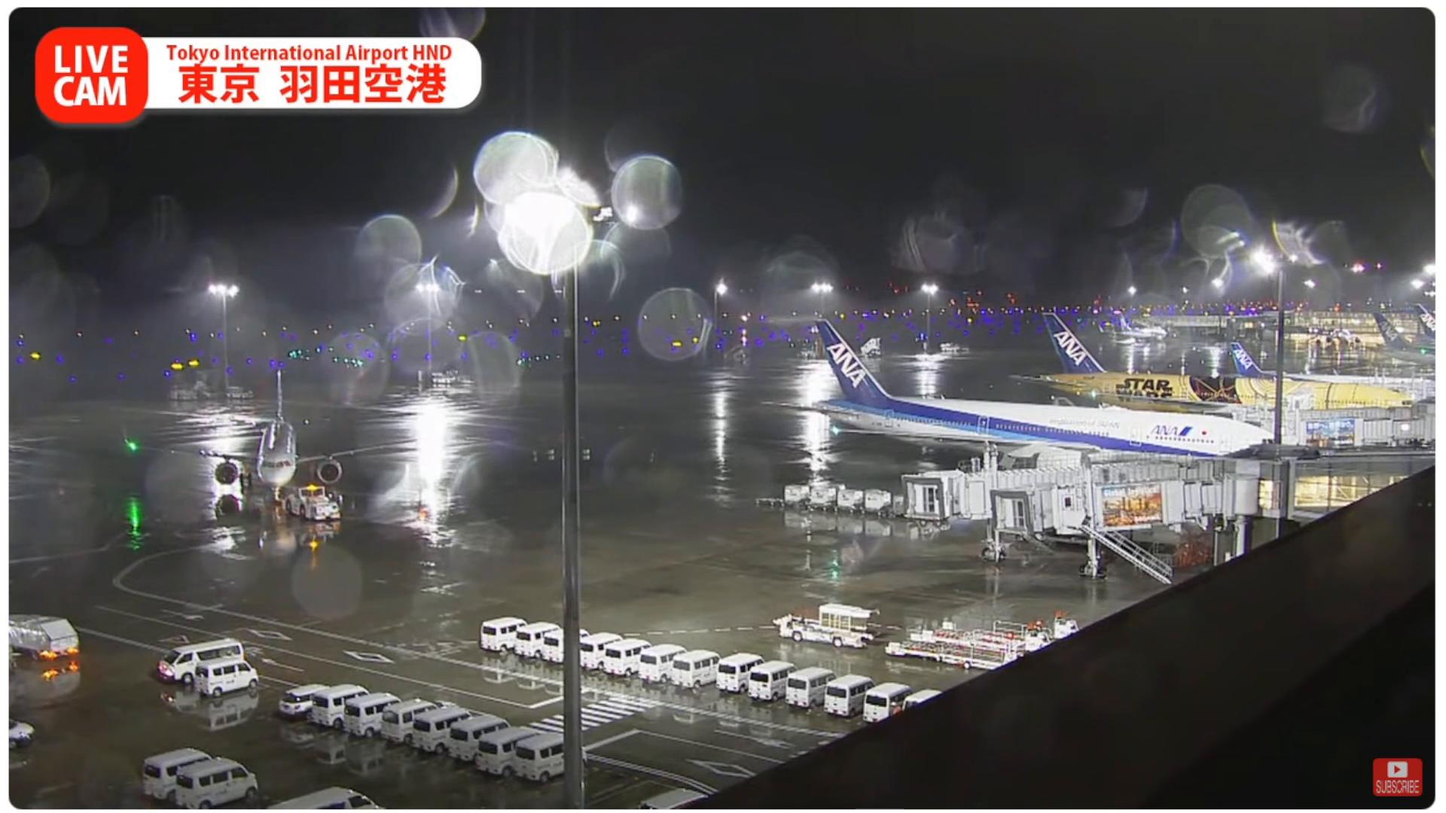APS: (282, 483, 343, 522)
Aerobridge: (898, 461, 1193, 525), (988, 473, 1227, 539)
Airplane: (121, 370, 423, 507)
Baggage truck: (0, 611, 81, 662)
Dolly: (779, 478, 893, 519)
JCPL: (914, 617, 1081, 654), (884, 636, 1033, 667)
Skyloader: (771, 602, 883, 649)
Window: (1289, 476, 1414, 509)
